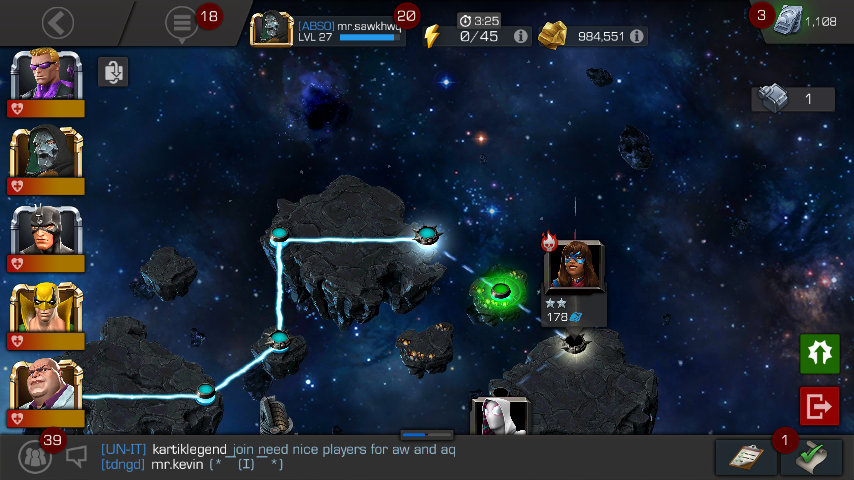green: (489, 283, 510, 299)
